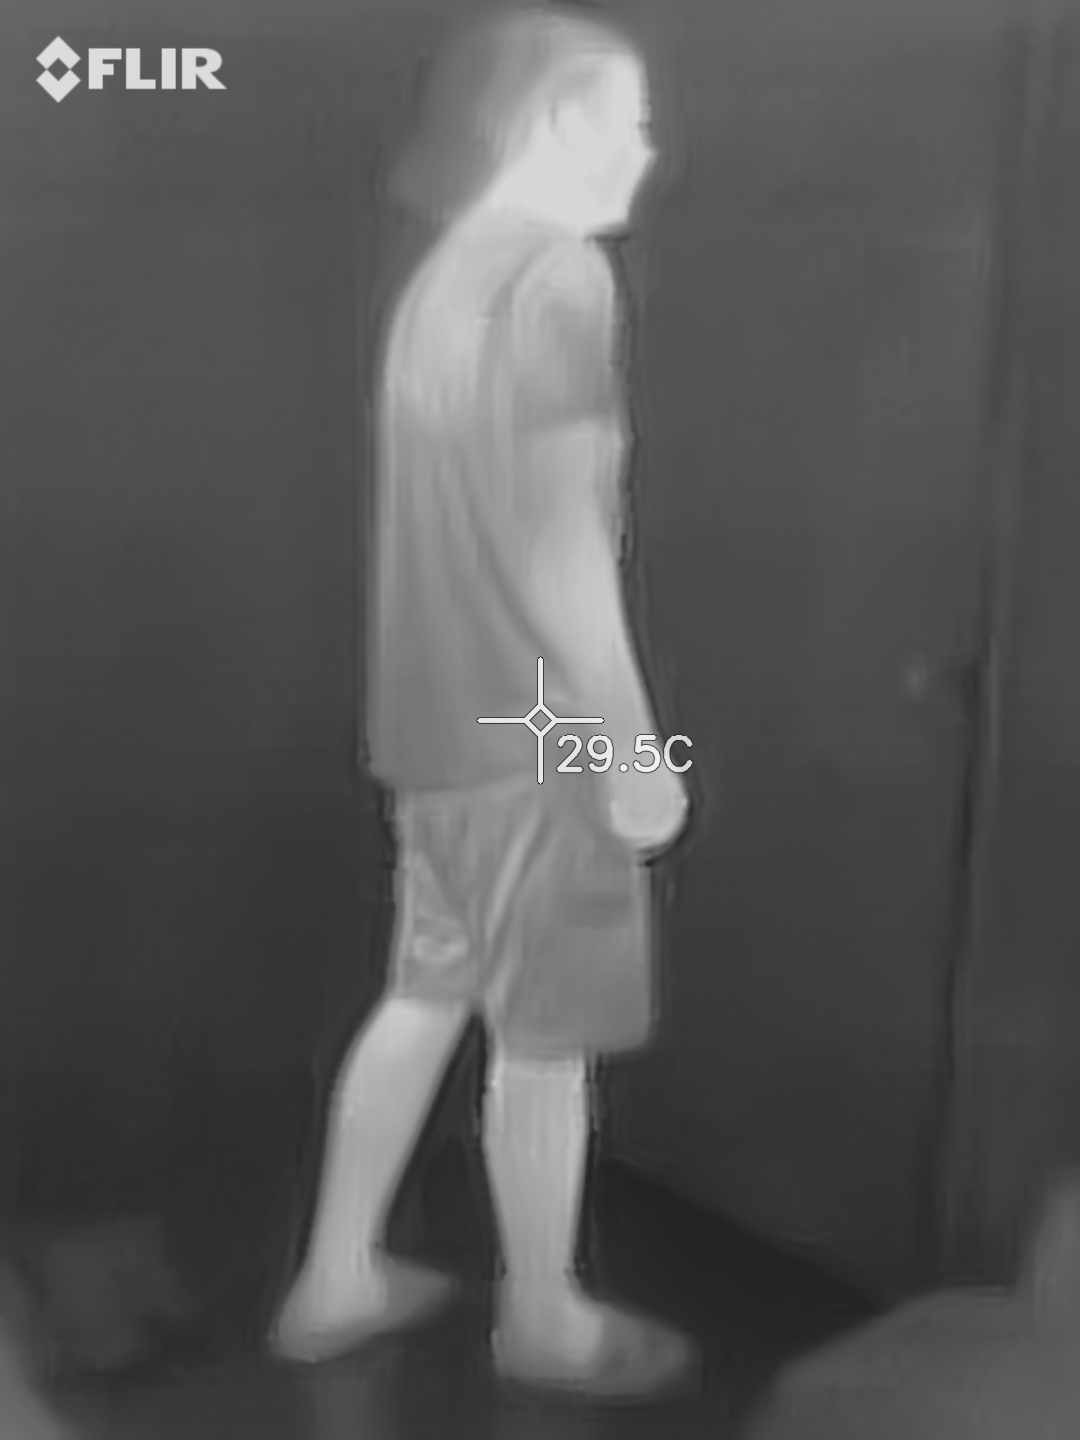head: (488, 47, 662, 233)
